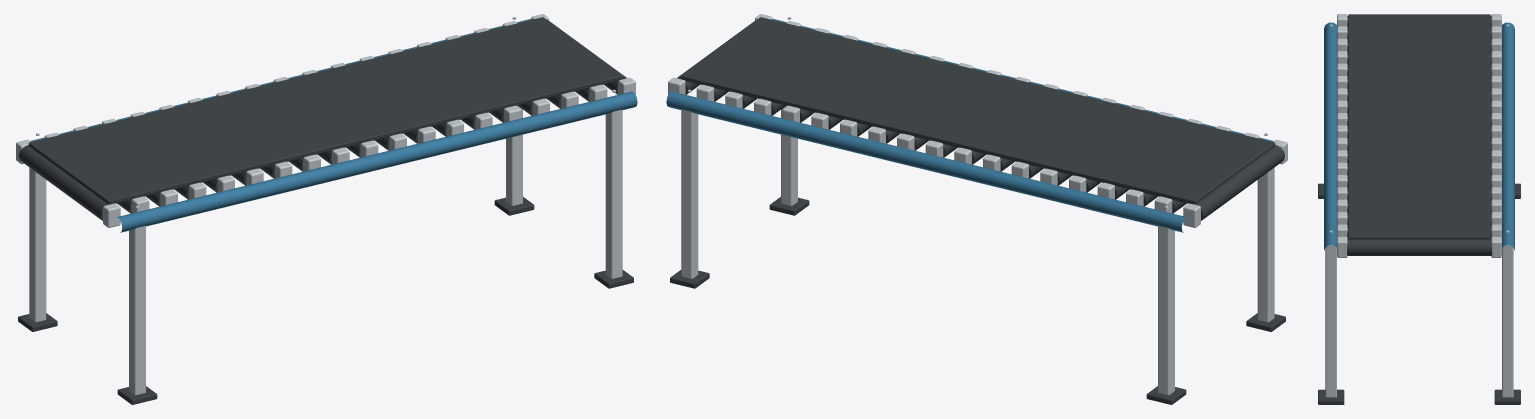
File: recycling-centre-and-material-sorting-picking-belt-7d5e533a__31109.glb
3 views of the same model, side by side, from view 1: azimuth 30°, elevation 25°; view 2: azimuth 150°, elevation 25°; view 3: azimuth 270°, elevation 25° (orthographic). The views are drawn at different scales.
Visible parts, largest first — view 1: picking-belt; view 2: picking-belt; view 3: picking-belt.
Part boxes in pixels (x1=…): picking-belt: x1=16, y1=14, x2=637, y2=404; picking-belt: x1=666, y1=14, x2=1287, y2=404; picking-belt: x1=1318, y1=14, x2=1520, y2=404.
Bounding box in the file's own units: 4.13 × 1.44 × 1.54.
